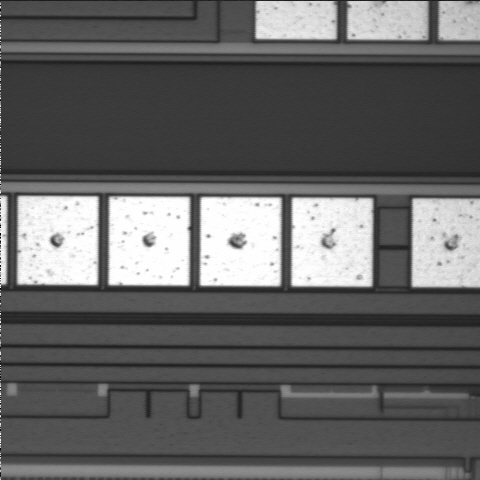pad: (291, 198, 373, 287), (17, 196, 98, 285), (109, 197, 190, 286), (200, 197, 281, 286)
